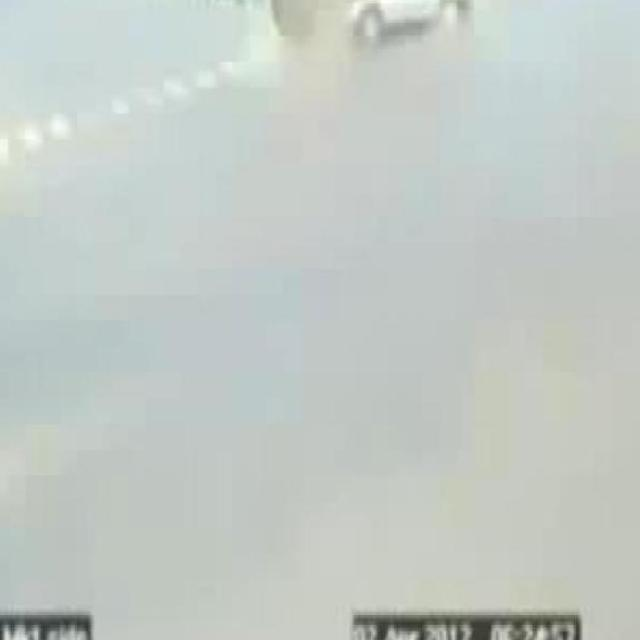accident: (260, 0, 479, 42)
